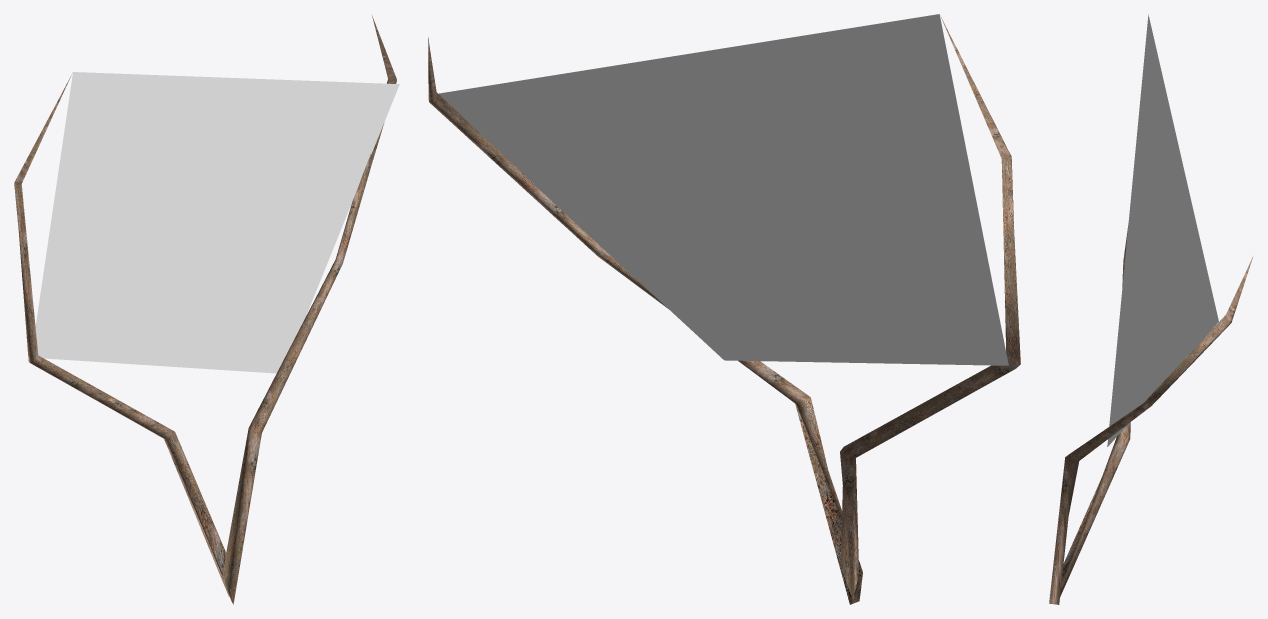
The model's file is poi_lair_web_s03_l0.fbx.
3 renders of one model, left to right at view 1: azimuth 30°, elevation 25°; view 2: azimuth 150°, elevation 25°; view 3: azimuth 270°, elevation 25°, orthographic. The views are drawn at different scales.
Parts seen in each view (by area): view 1: mesh_node; view 2: mesh_node; view 3: mesh_node.
Part boxes in pixels (x1,y1,x2,y2): mesh_node: (14,15,399,604); mesh_node: (428,14,1020,604); mesh_node: (1049,14,1253,604).
Size of the model in its own units: 0.934 by 1.11 by 0.3871.
